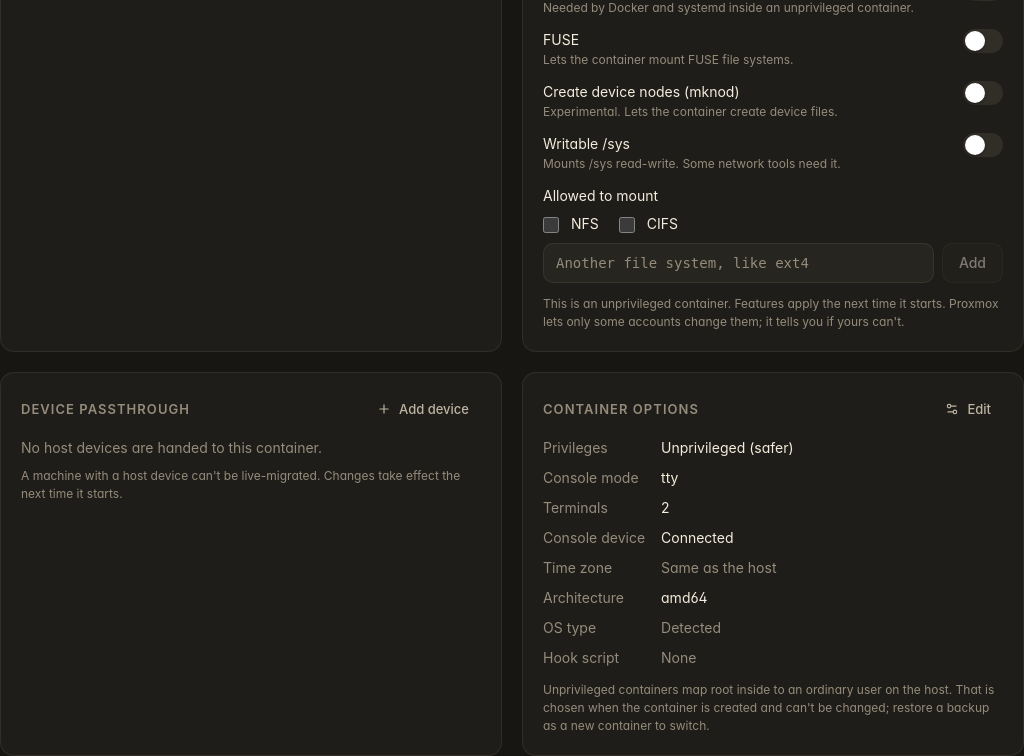
it: hardware: processor, machine type, devices and options (GU-021 to GU-027, GU-046 to GU-048, GU-070 to GU-075) › a container has console and terminal options, and says why privileges can't change
The image size is (1024, 756).
(page scrolled)
Expected: the text "can't be changed" is shown, [543, 682, 994, 733]
Click the button "Edit" at [968, 409], box [933, 393, 1003, 425]
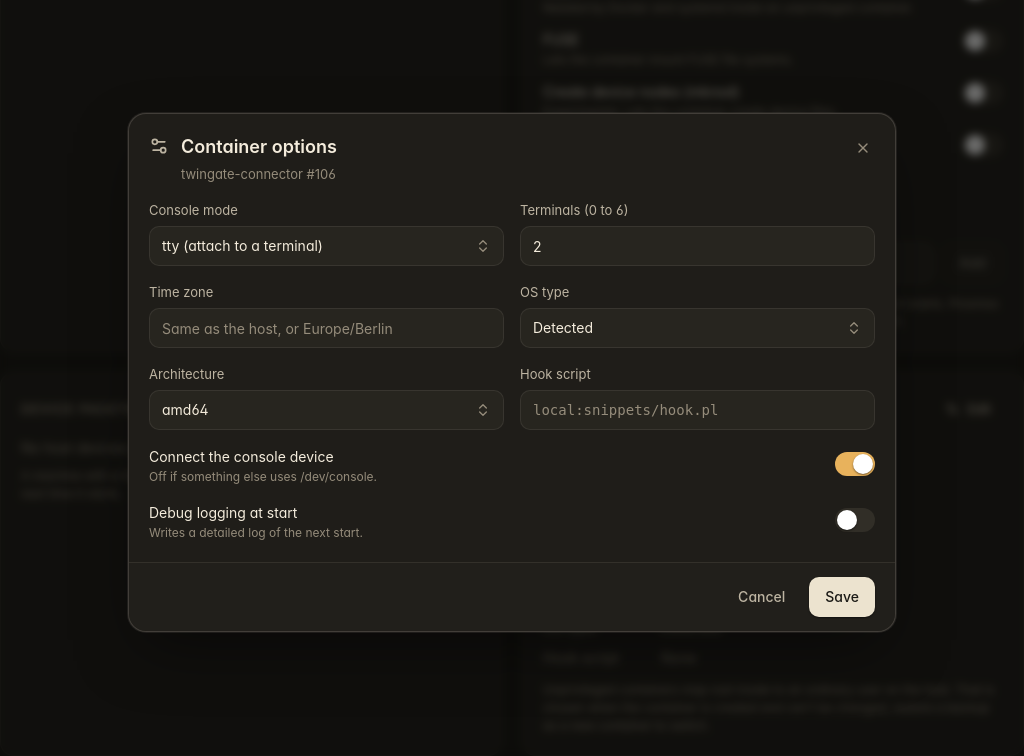
Replace the text in the number field labelled "Terminals (0 to 6)" with "4" at [698, 246], box [520, 226, 875, 266]
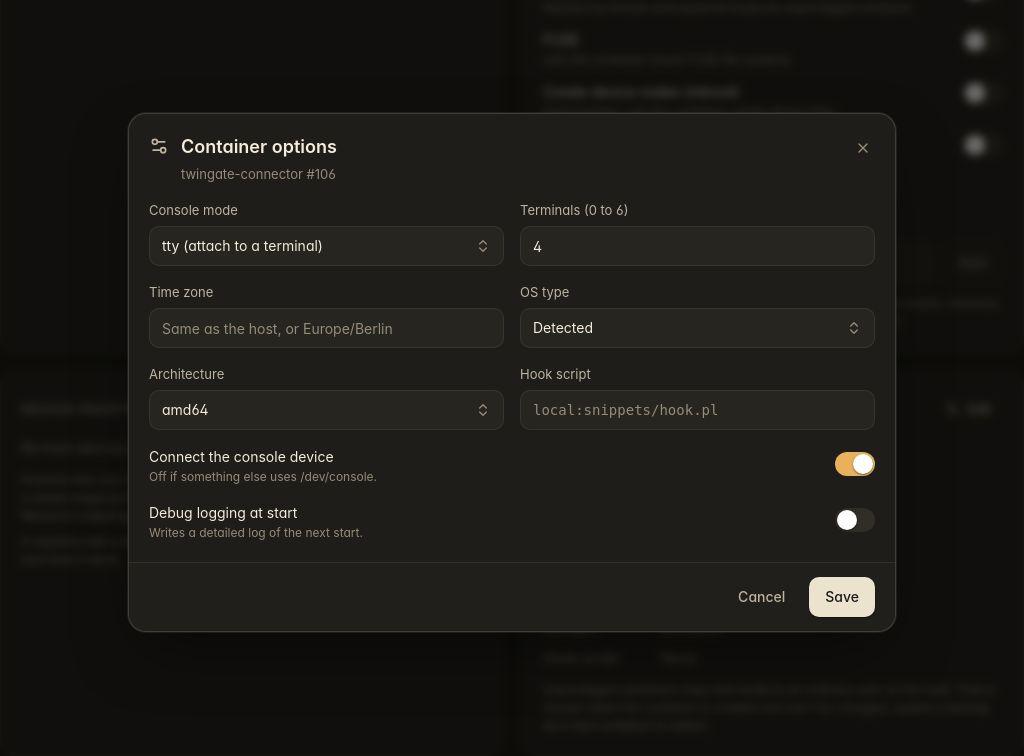
Select "console (attach to /dev/console)" in the dropdown labelled "Console mode" at [326, 232], box [149, 200, 504, 266]
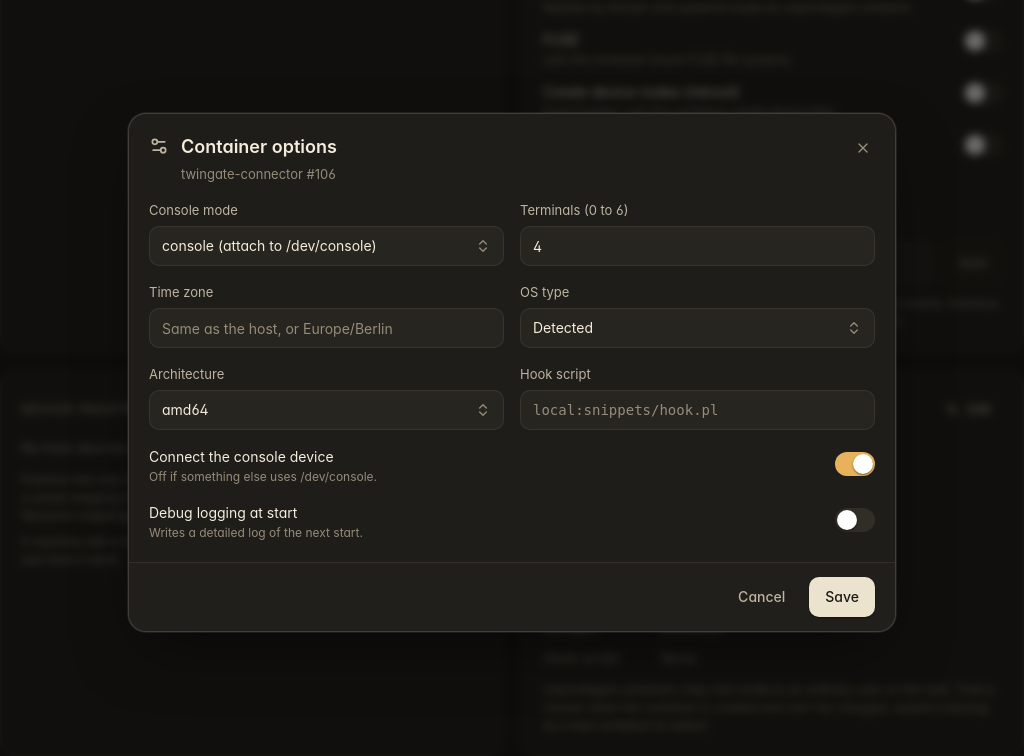
Click the button "Save" at [842, 596], box [809, 576, 875, 616]
(page scrolled)
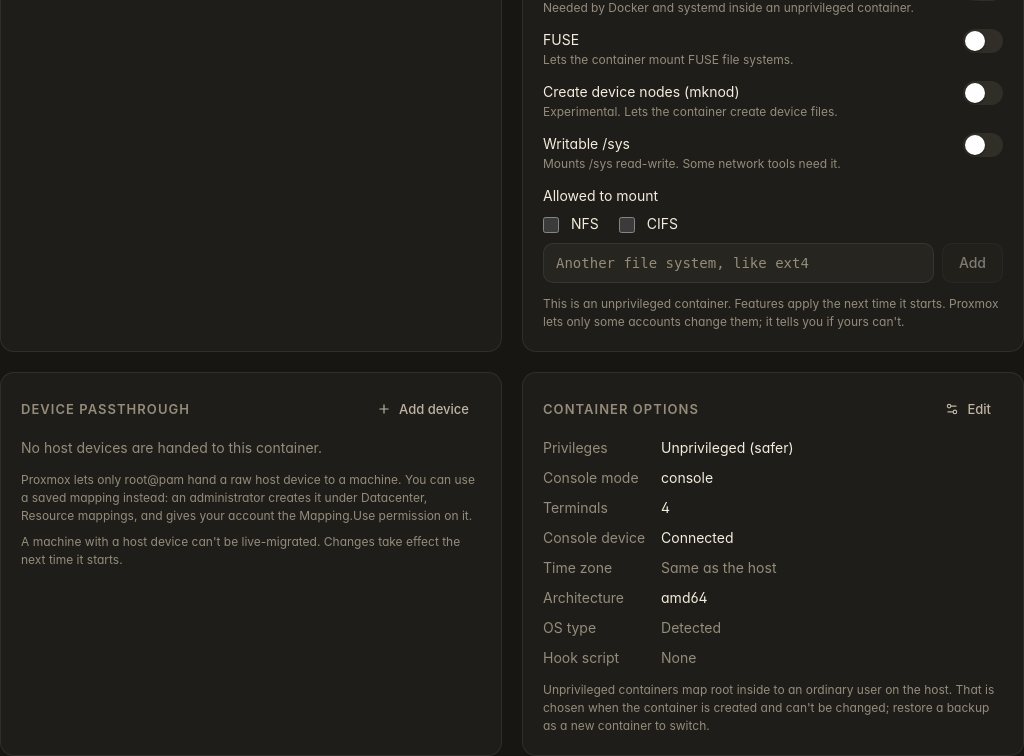
Result: the text "console" is shown at [661, 469, 713, 486]
